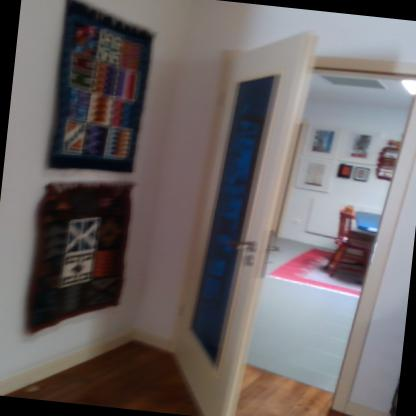semi: (172, 17, 415, 415)
